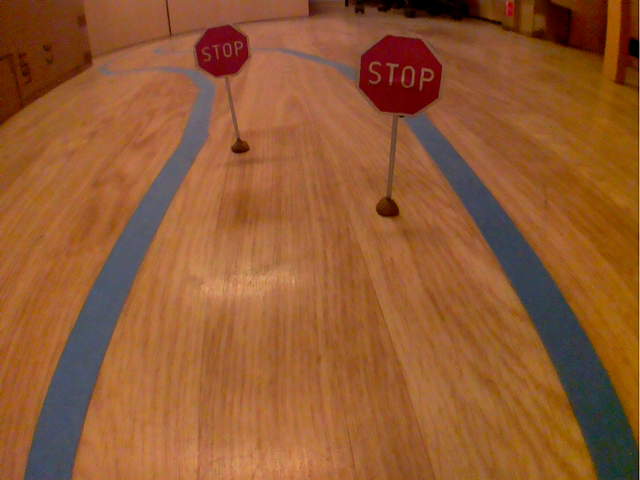Stop: (352, 30, 448, 121), (190, 20, 254, 82)
